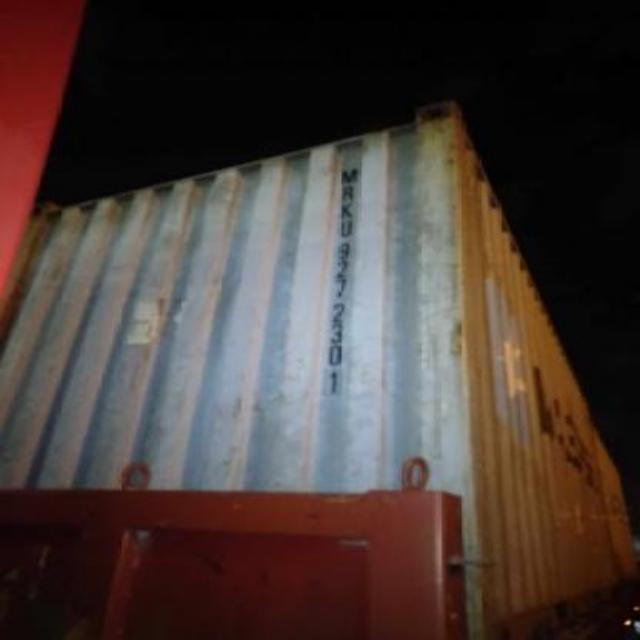0: (322, 344, 346, 366)
1: (324, 372, 342, 394)
2: (328, 300, 349, 322), (336, 259, 349, 279)
3: (327, 324, 348, 344)
7: (330, 278, 354, 298)
9: (336, 241, 352, 259)
K: (337, 201, 358, 219)
M: (336, 167, 362, 183)
R: (336, 183, 364, 201)
U: (336, 218, 356, 238)
